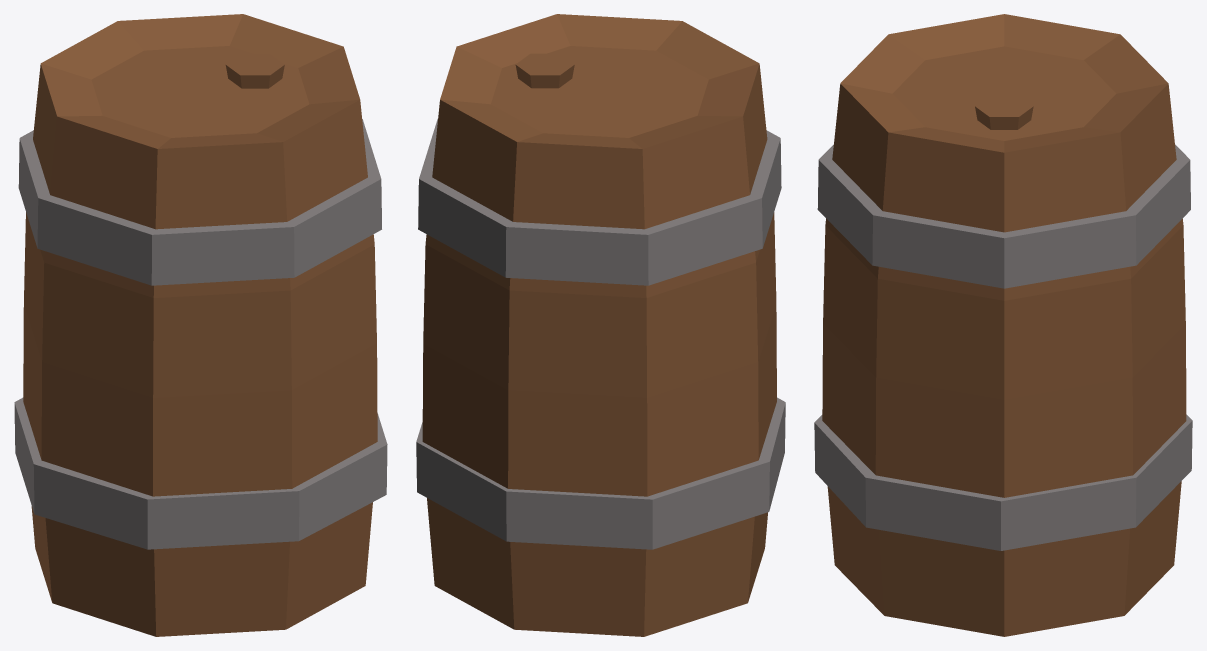
Rendered from barrel-old.glb.
3 renders of one model, left to right at view 1: azimuth 30°, elevation 25°; view 2: azimuth 150°, elevation 25°; view 3: azimuth 270°, elevation 25°, orthographic.
Parts seen in each view (by area): view 1: barrel-old; view 2: barrel-old; view 3: barrel-old.
Part boxes in pixels (box(x1,y1,x2,y2)): barrel-old: box(14, 14, 387, 636); barrel-old: box(416, 14, 785, 636); barrel-old: box(814, 14, 1192, 636).
Bounding box in the file's own units: 0.901 × 1.26 × 0.8894.
Materials: 1 (1 with a texture image).
